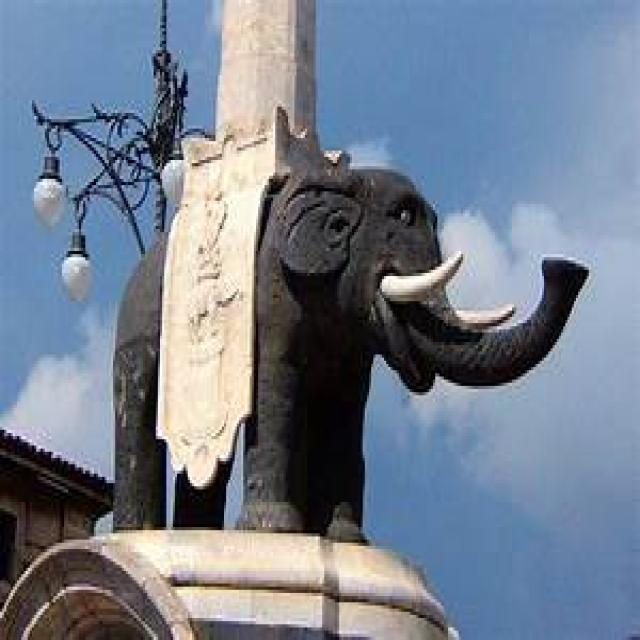elephant: (113, 100, 589, 546)
